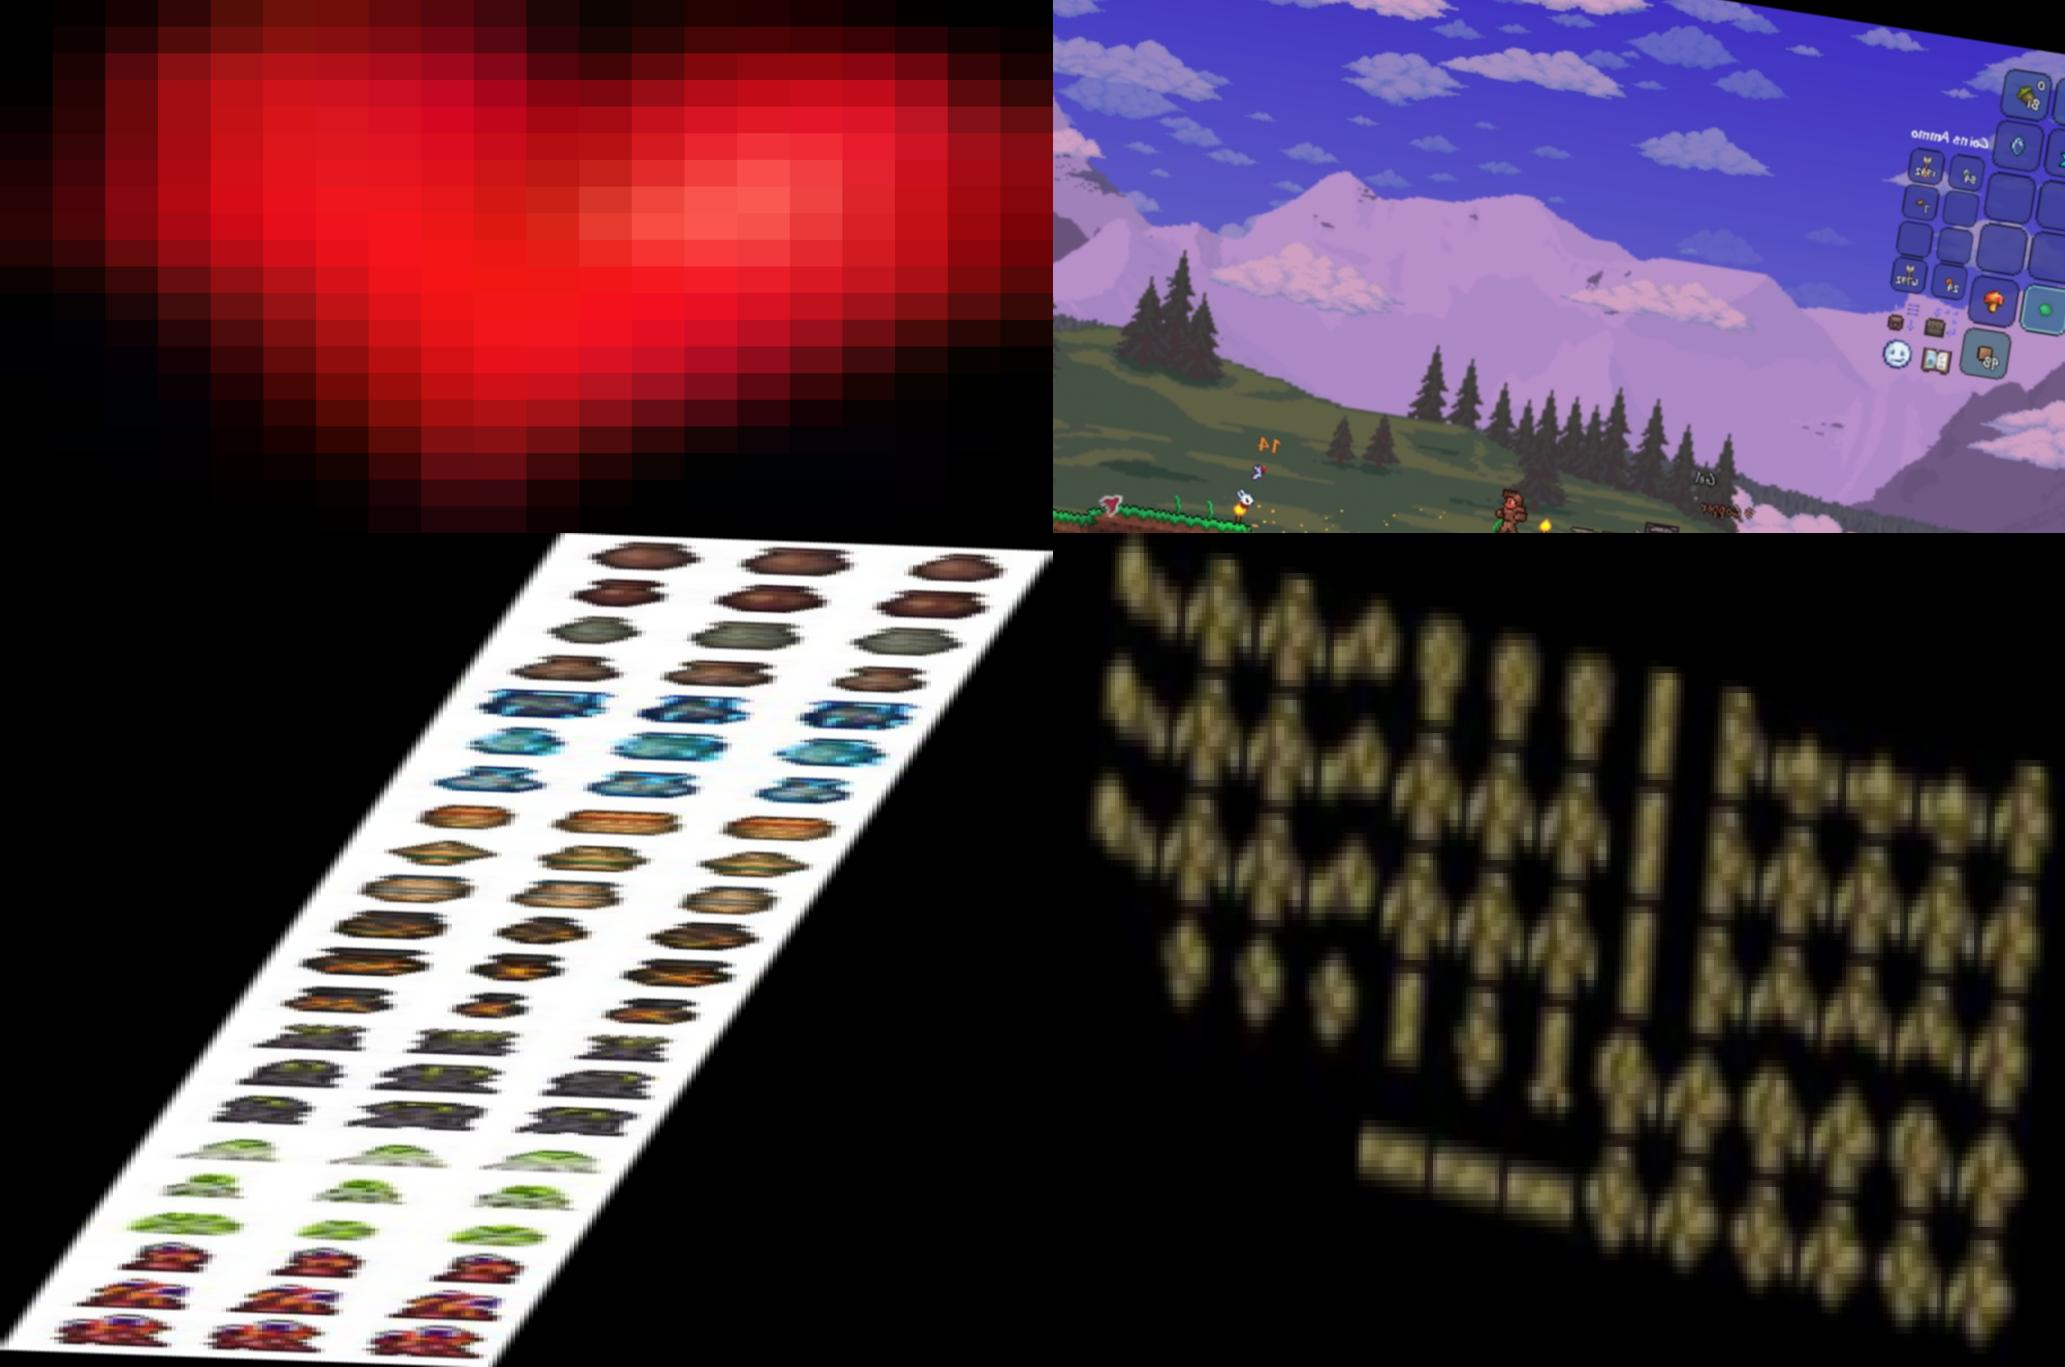heart: (0, 0, 1052, 532)
pot: (897, 551, 1023, 584)
ropeT: (1986, 760, 2060, 886)
